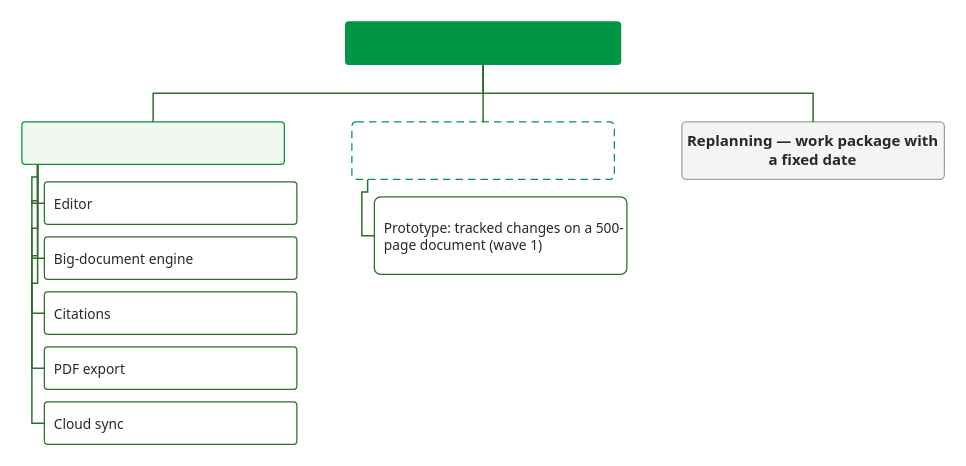
The diagram is 966 pixels wide and 466 high, and some of its shapes have lost their labels. Each missing label, with the centre of its shape:
"Quill" goes at point 482,42.
"Quill 1.0 — wave 1, detailed" goes at point 152,142.
"Quill 2.0: tracked changes — planning package" goes at point 482,150.
